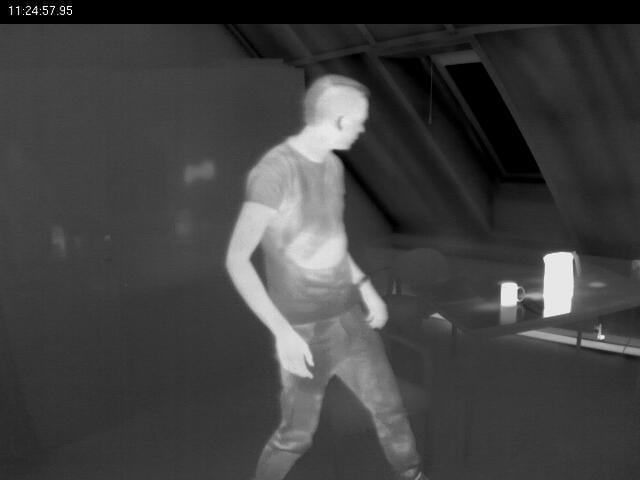person: (220, 61, 454, 475)
